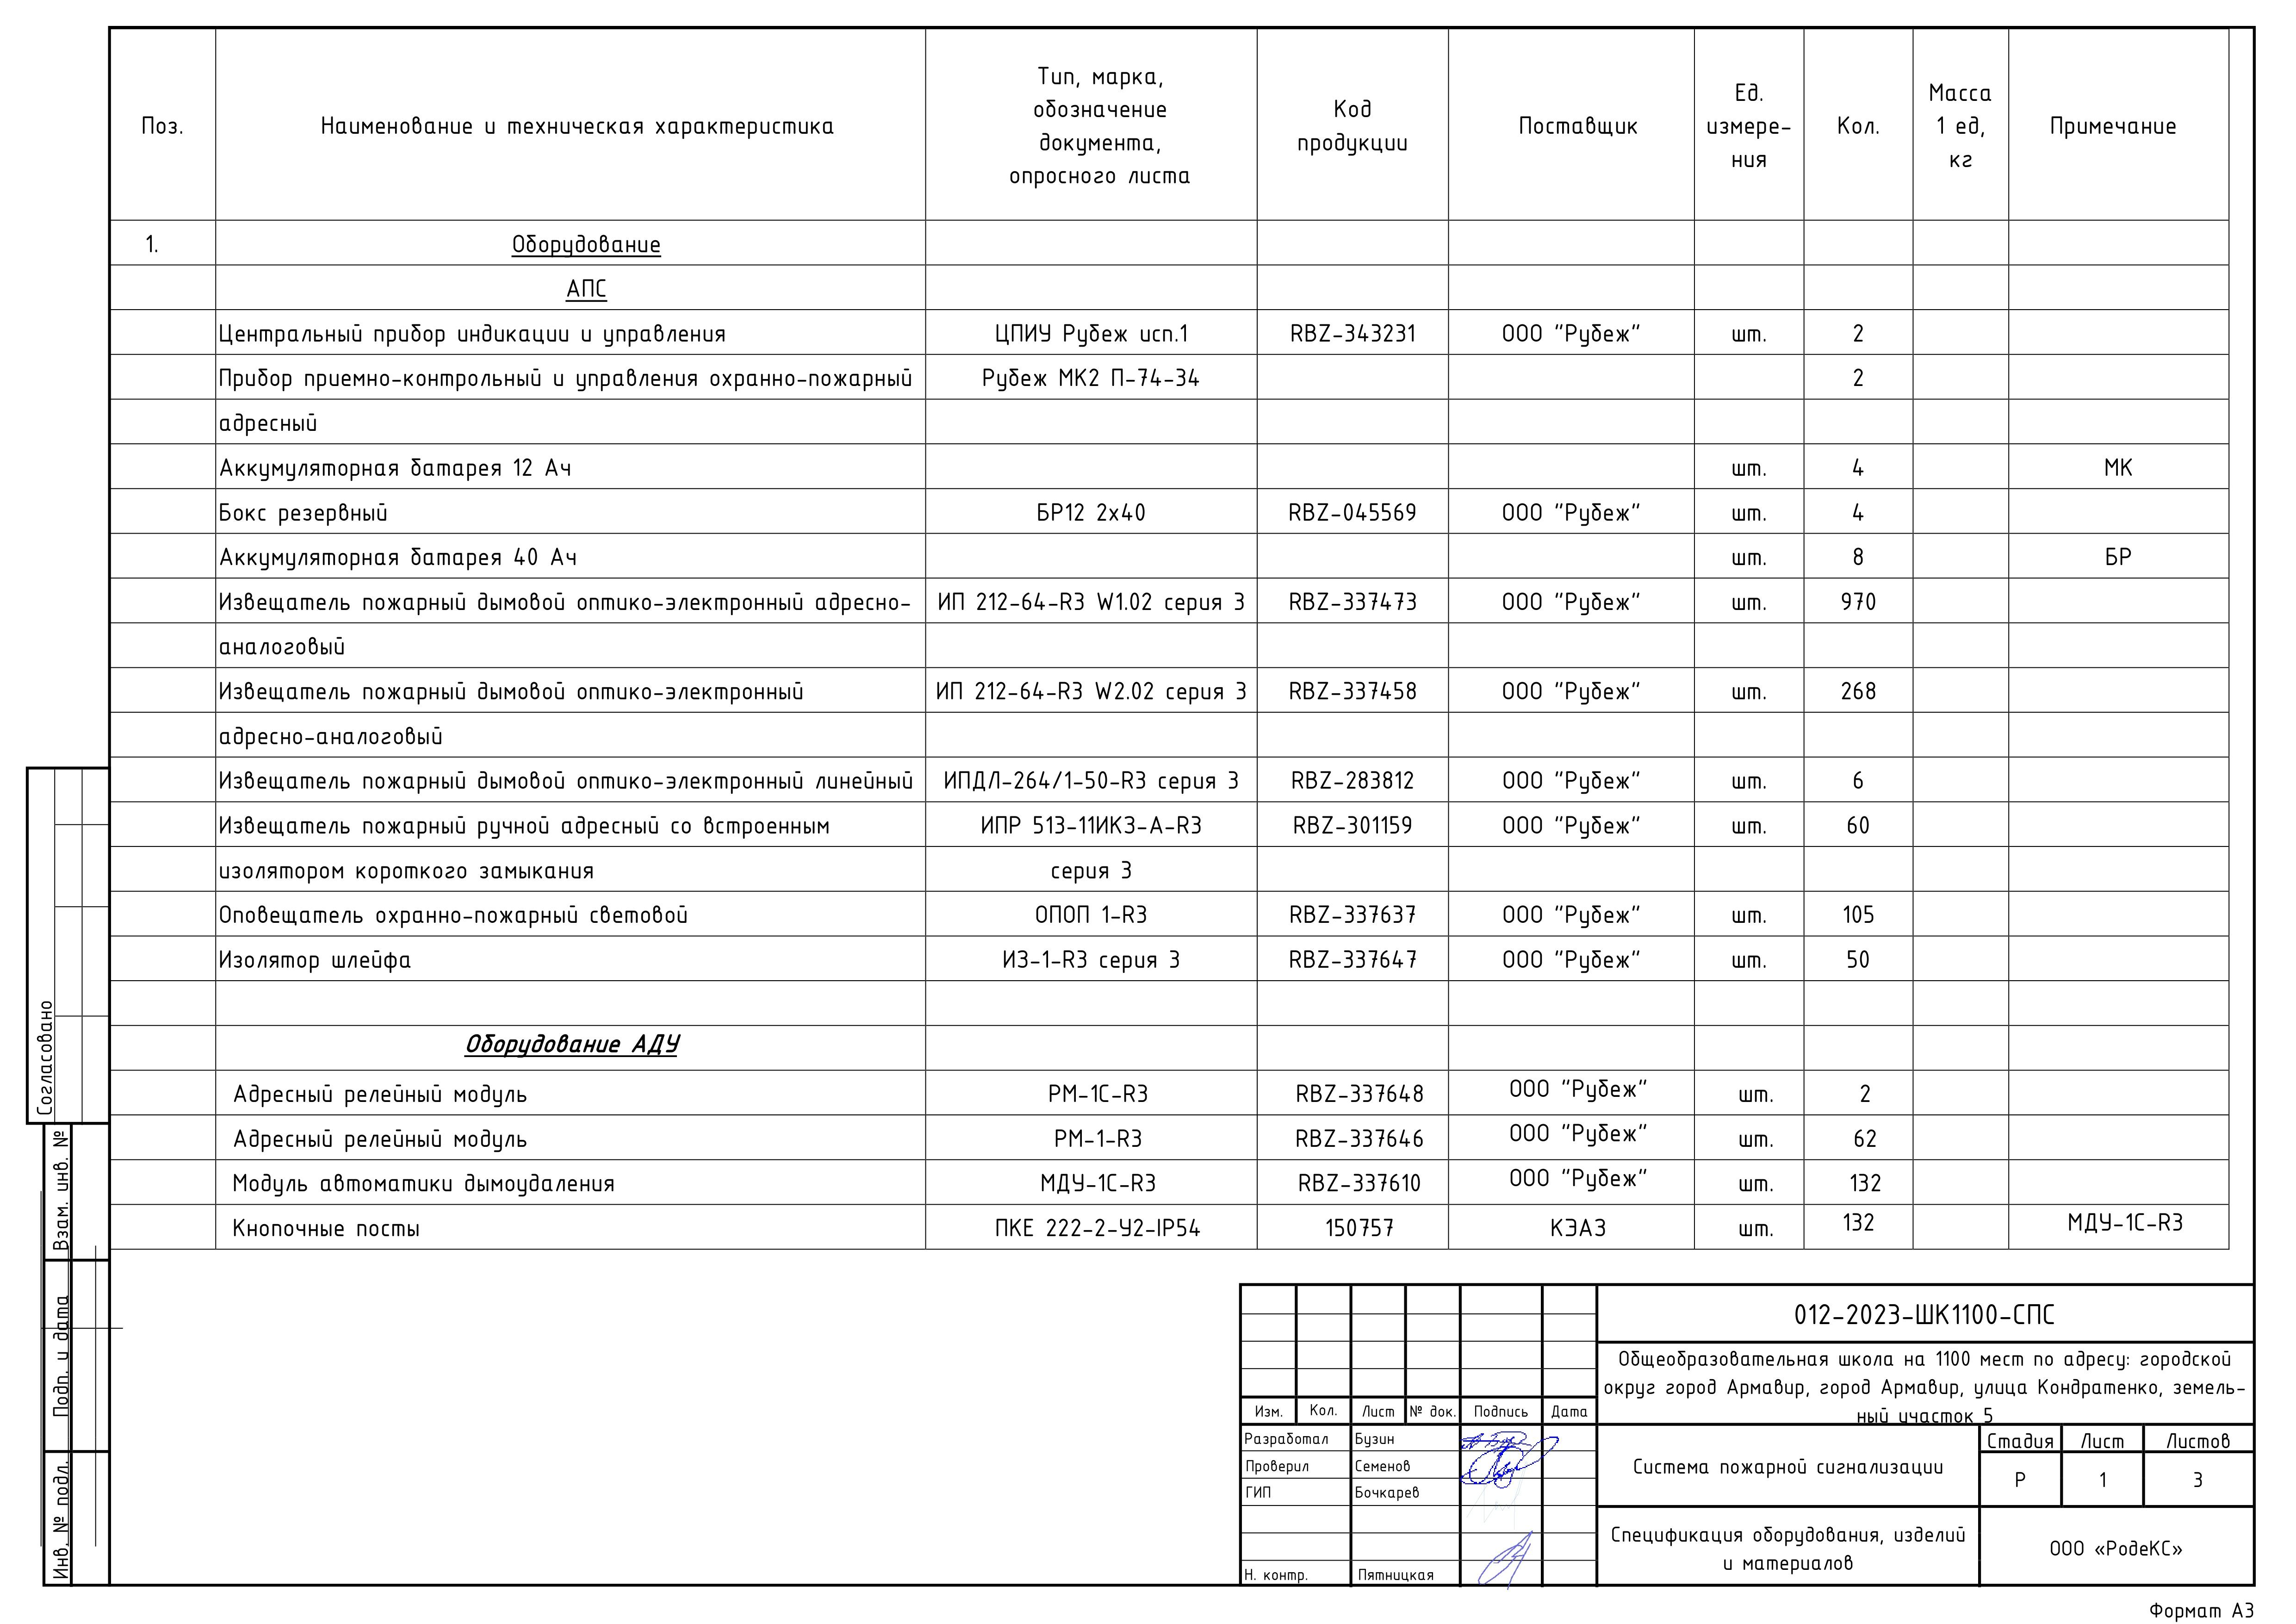Name of costs: (216, 220, 926, 1248)
Note: (925, 220, 1258, 1249)
Quantity: (1803, 220, 1913, 1250)
Unit of measurement: (1694, 220, 1804, 1248)
